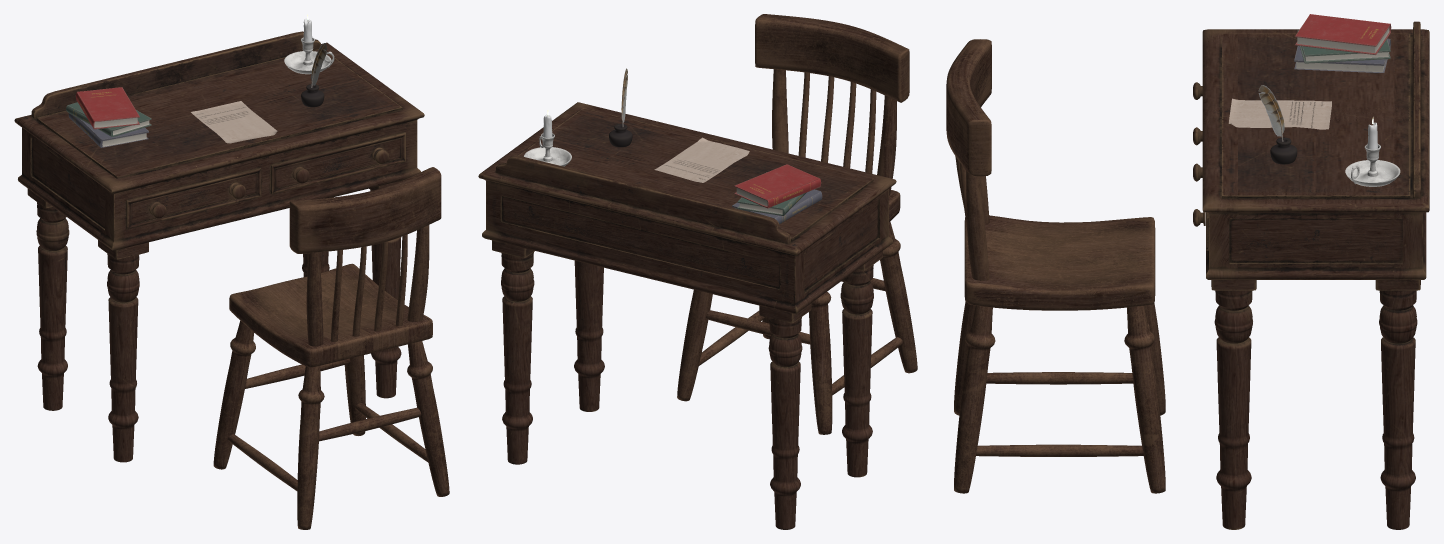
3 renders of one model, left to right at view 1: azimuth 30°, elevation 25°; view 2: azimuth 150°, elevation 25°; view 3: azimuth 270°, elevation 25°, orthographic. The views are drawn at different scales.
Visible parts, largest first — view 1: WritingTable, GoodChair, WritingTableLegs, Parchment, Book_Metamorphasis, Book_TheTrial, CandleHolder, Book_Amerika; view 2: WritingTable, GoodChair, WritingTableLegs, Parchment, Book_Metamorphasis, CandleHolder, Book_TheTrial, Book_Amerika; view 3: WritingTable, GoodChair, WritingTableLegs, Book_Metamorphasis, Parchment, CandleHolder, Book_TheTrial, Book_Amerika, Quill, Inkwell.
Part boxes in pixels (x1,y1,x2,y2): WritingTable: (14, 31, 424, 259); GoodChair: (213, 167, 449, 529); WritingTableLegs: (36, 190, 401, 462); Parchment: (191, 101, 277, 143); Book_Metamorphasis: (75, 87, 139, 129); Book_TheTrial: (68, 113, 148, 147); CandleHolder: (284, 37, 334, 74); Book_Amerika: (66, 102, 151, 137); WritingTable: (478, 102, 896, 323); GoodChair: (677, 14, 917, 434); WritingTableLegs: (501, 252, 873, 529); Parchment: (654, 137, 749, 182); Book_Metamorphasis: (734, 164, 821, 208); CandleHolder: (524, 133, 571, 166); Book_TheTrial: (732, 189, 822, 224); Book_Amerika: (737, 192, 806, 215); WritingTable: (1193, 21, 1429, 290); GoodChair: (946, 39, 1165, 493); WritingTableLegs: (1214, 290, 1417, 529); Book_Metamorphasis: (1295, 14, 1391, 54); Parchment: (1228, 98, 1331, 129); CandleHolder: (1345, 144, 1400, 186); Book_TheTrial: (1294, 38, 1390, 72); Book_Amerika: (1297, 30, 1390, 63); Quill: (1258, 85, 1284, 141); Inkwell: (1270, 137, 1297, 164).
Bounding box in the file's own units: 7.32 × 7.94 × 8.4.
7 materials, 6 textured.
